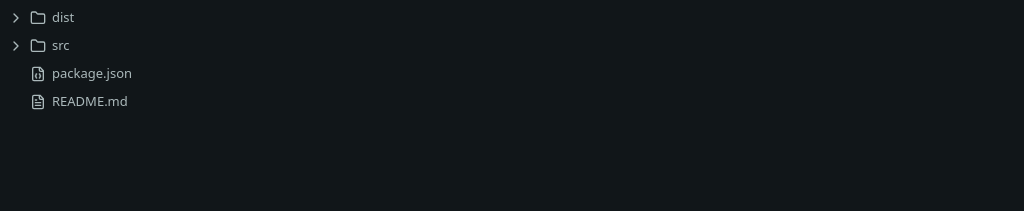
Test: FileTree › lists the root, then a directory only when it is expanded
Click the list item "src" at (39, 45), box [8,36,70,54]
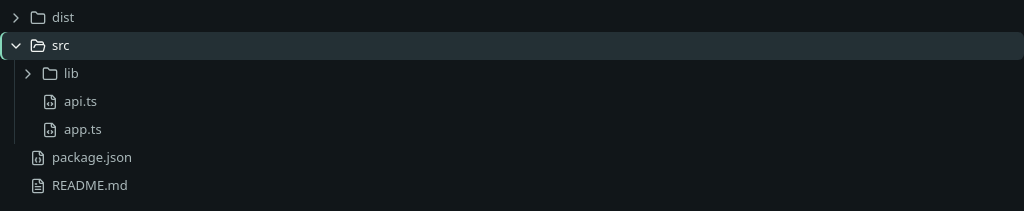
Now the list item "src" is expanded, box [0,32,1023,60]
